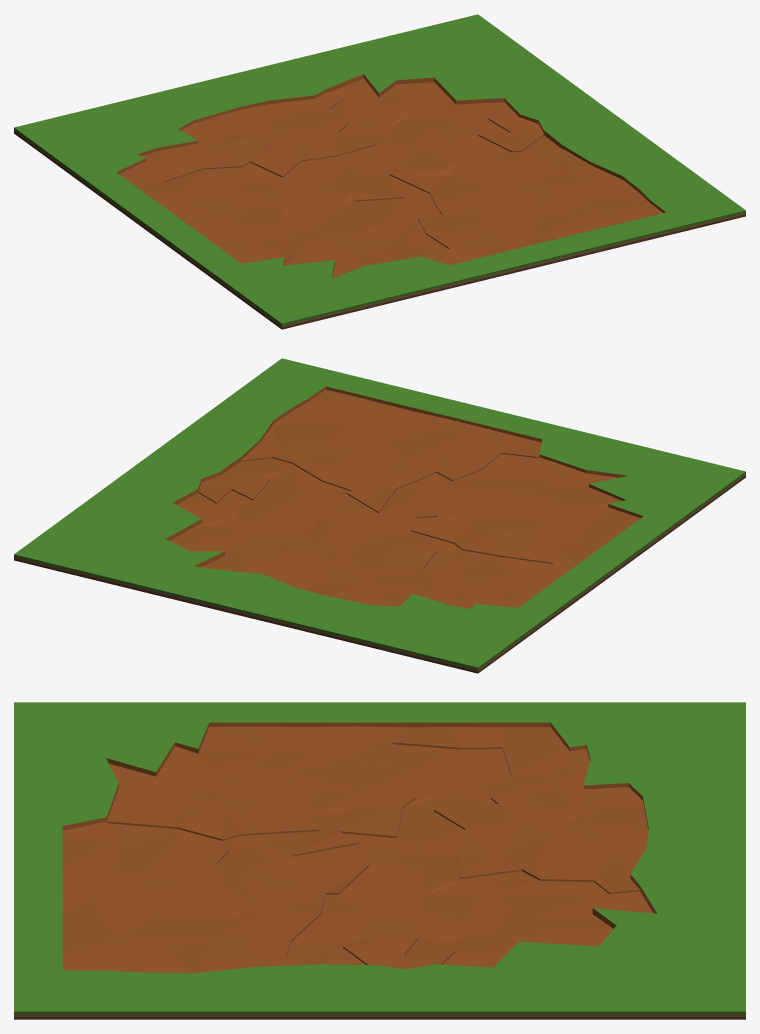
File: grown-over-dirt-tile-ea4ea0.glb
3 views of the same model, one above another, from view 1: azimuth 30°, elevation 25°; view 2: azimuth 150°, elevation 25°; view 3: azimuth 270°, elevation 25° (orthographic). The views are drawn at different scales.
Parts seen in each view (by area): view 1: grown-over-dirt-tile-mesh; view 2: grown-over-dirt-tile-mesh; view 3: grown-over-dirt-tile-mesh.
Part boxes in pixels (x1,y1,x2,y2): grown-over-dirt-tile-mesh: (14, 14, 745, 329); grown-over-dirt-tile-mesh: (14, 358, 745, 673); grown-over-dirt-tile-mesh: (14, 702, 745, 1019).
Bounding box in the file's own units: 4 × 0.05 × 4.
